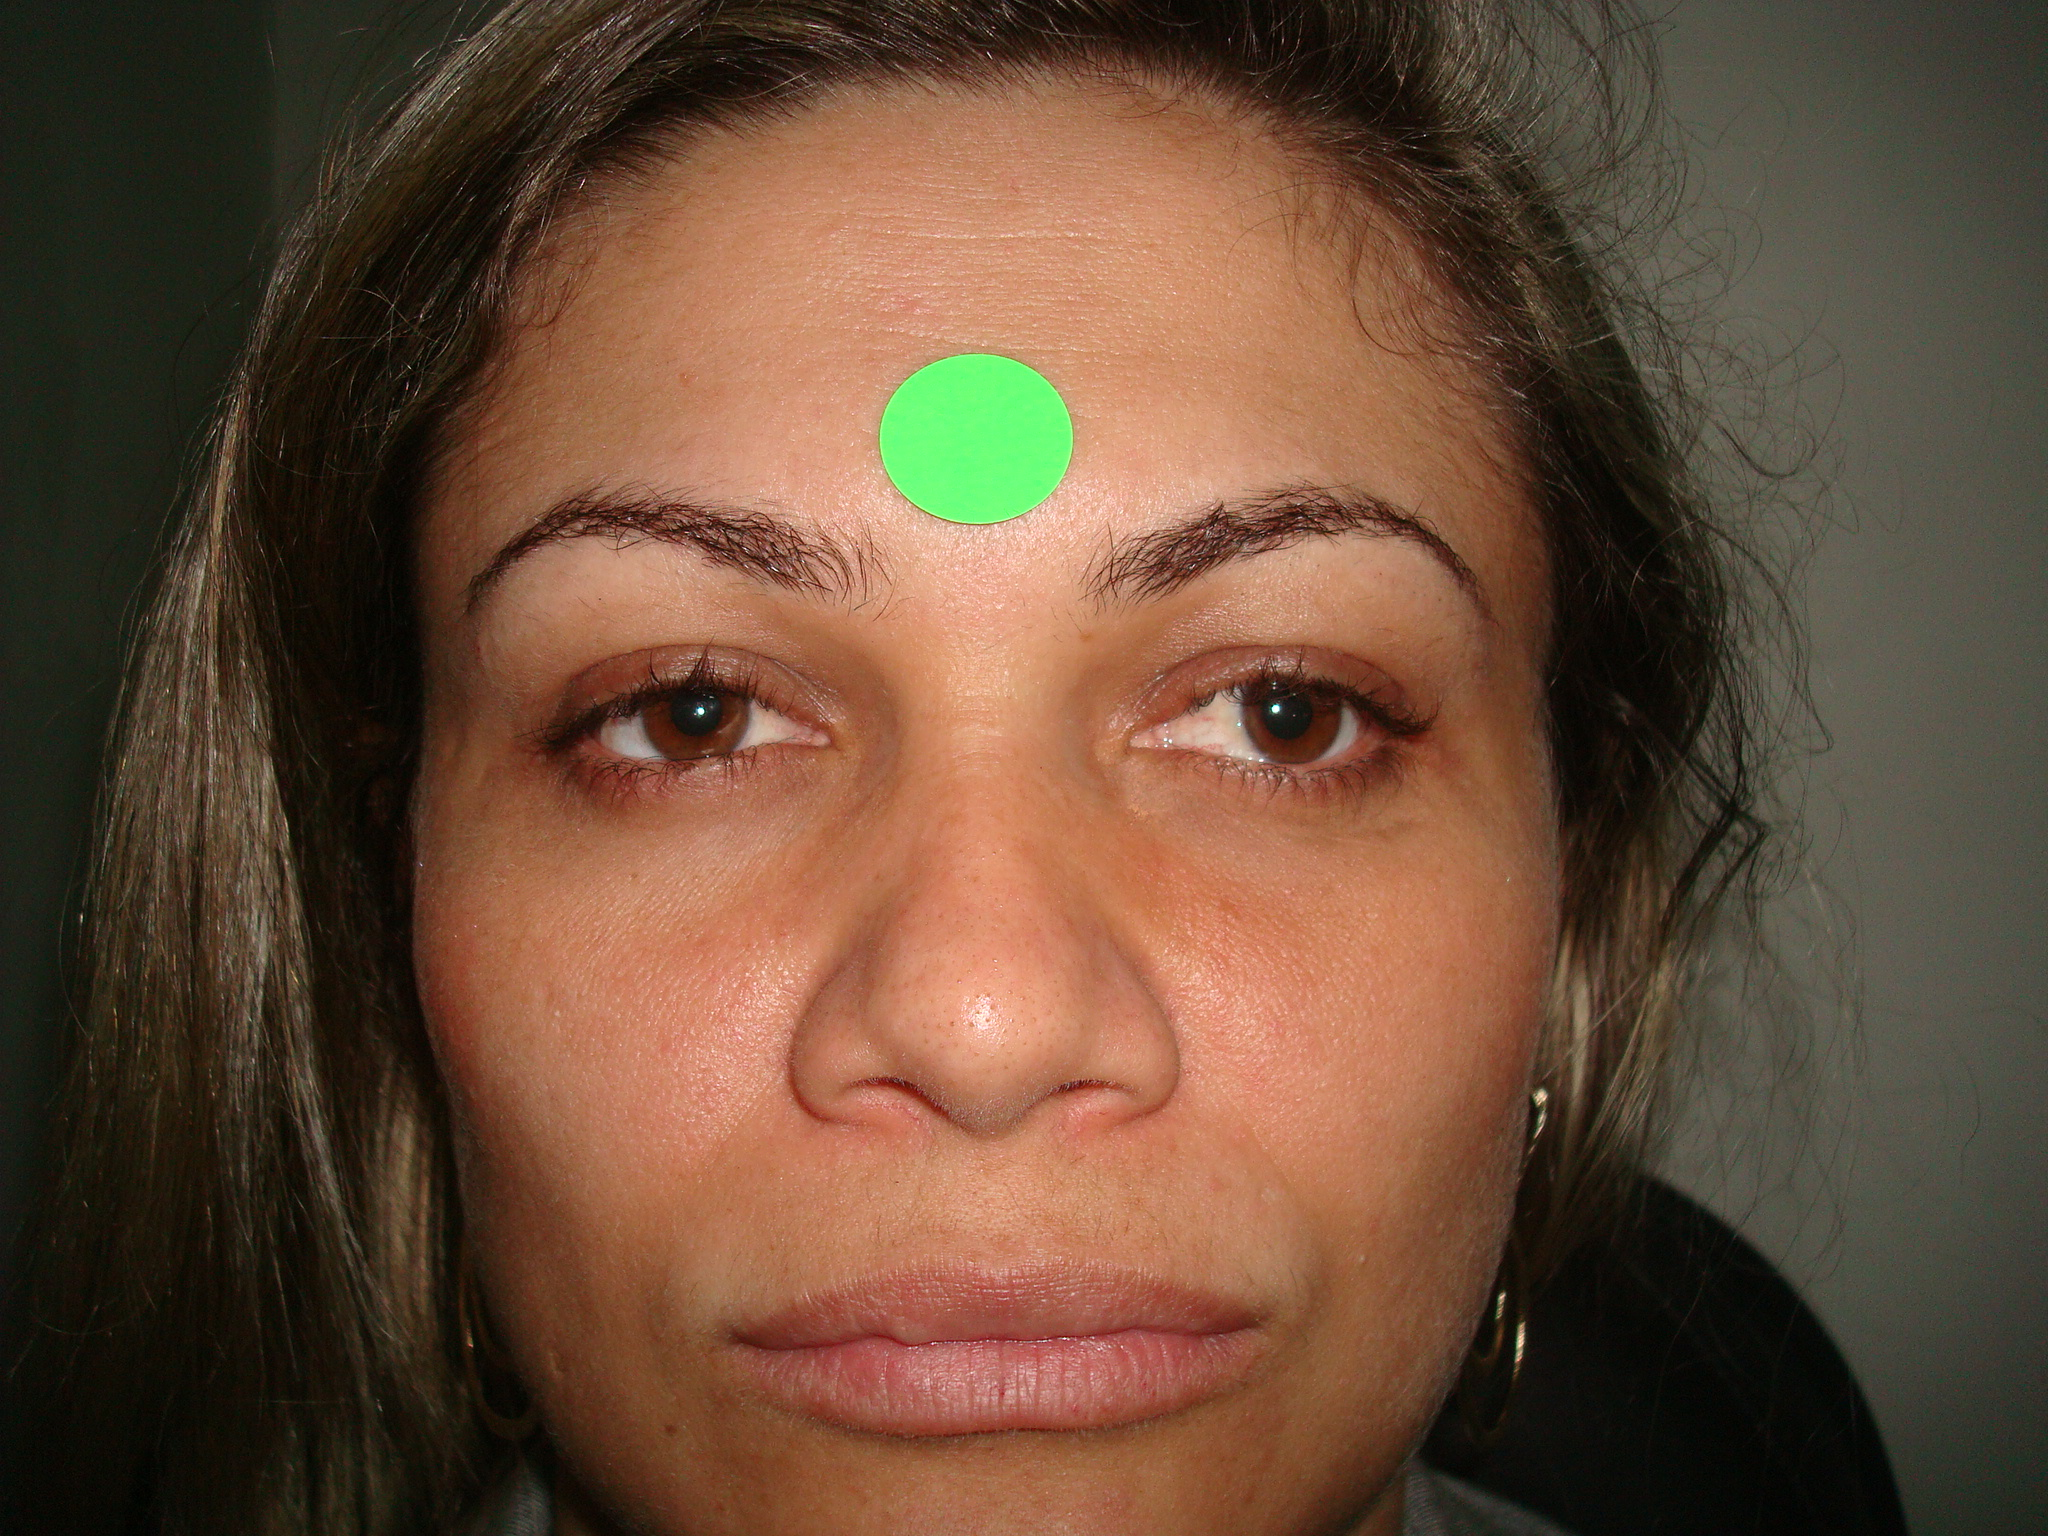flash: (1268, 700, 1287, 718), (693, 702, 710, 723)
limbo: (1238, 657, 1342, 765), (642, 666, 753, 762)
